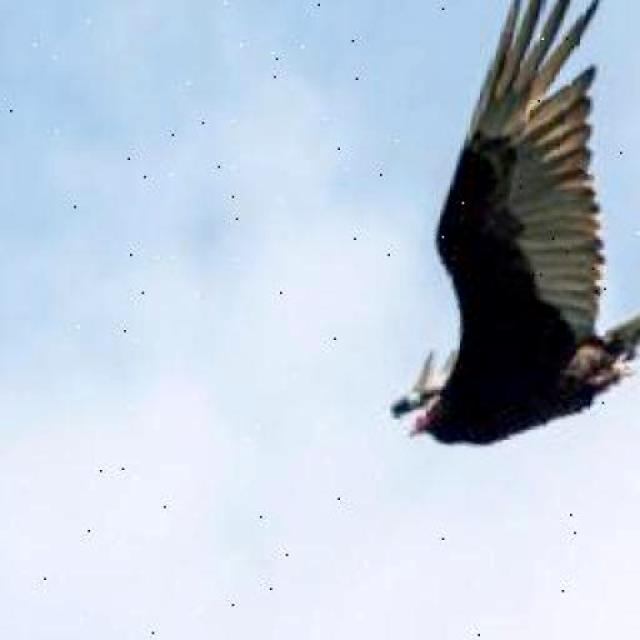airplane: (385, 0, 640, 492)
